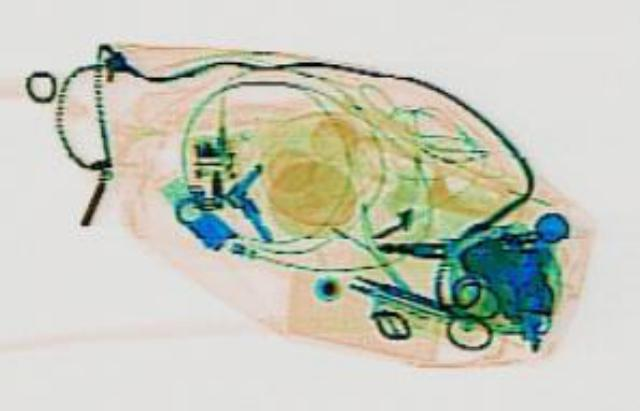Scissors: (326, 250, 526, 350)
